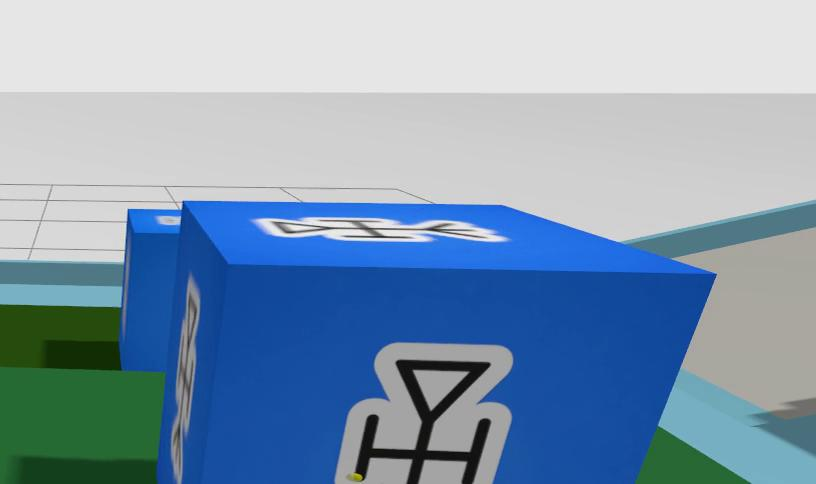KFS_REAL: (157, 201, 714, 484), (334, 343, 511, 484), (253, 217, 507, 241)
